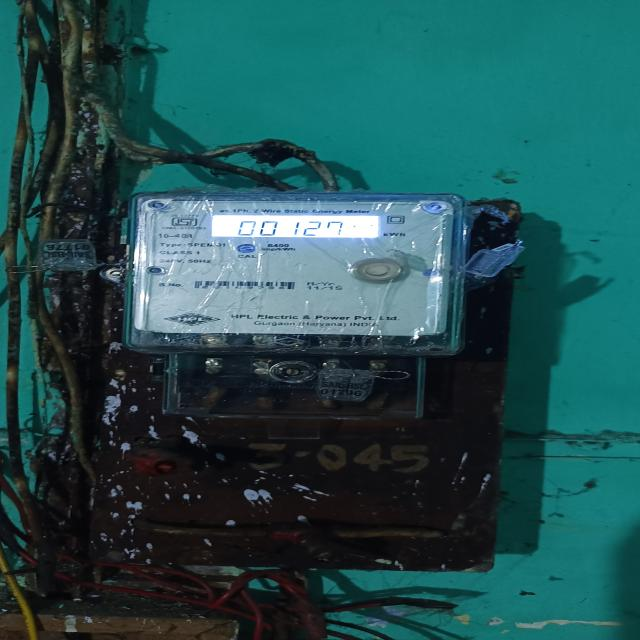display: (205, 214, 384, 238)
